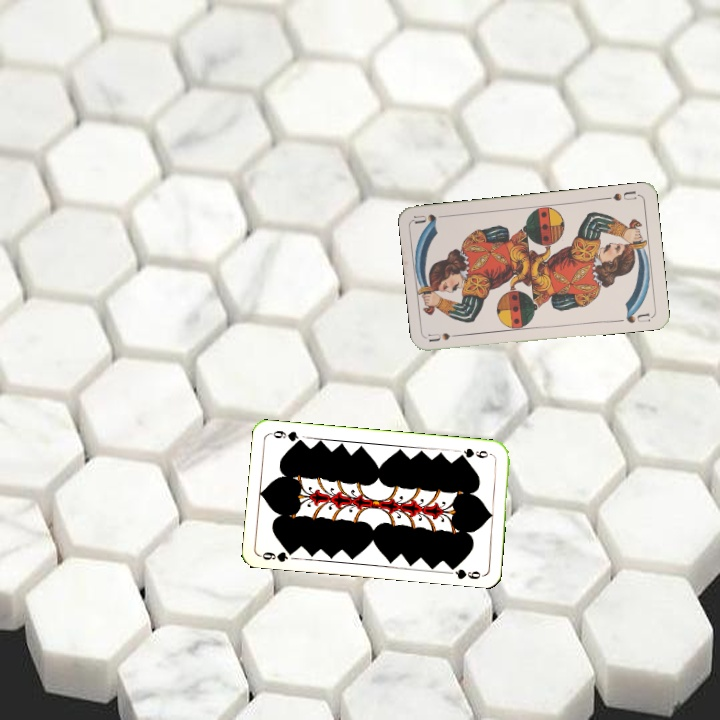G9: (256, 546, 298, 565), (454, 444, 495, 460)
SU: (600, 187, 641, 204), (425, 329, 466, 344)
